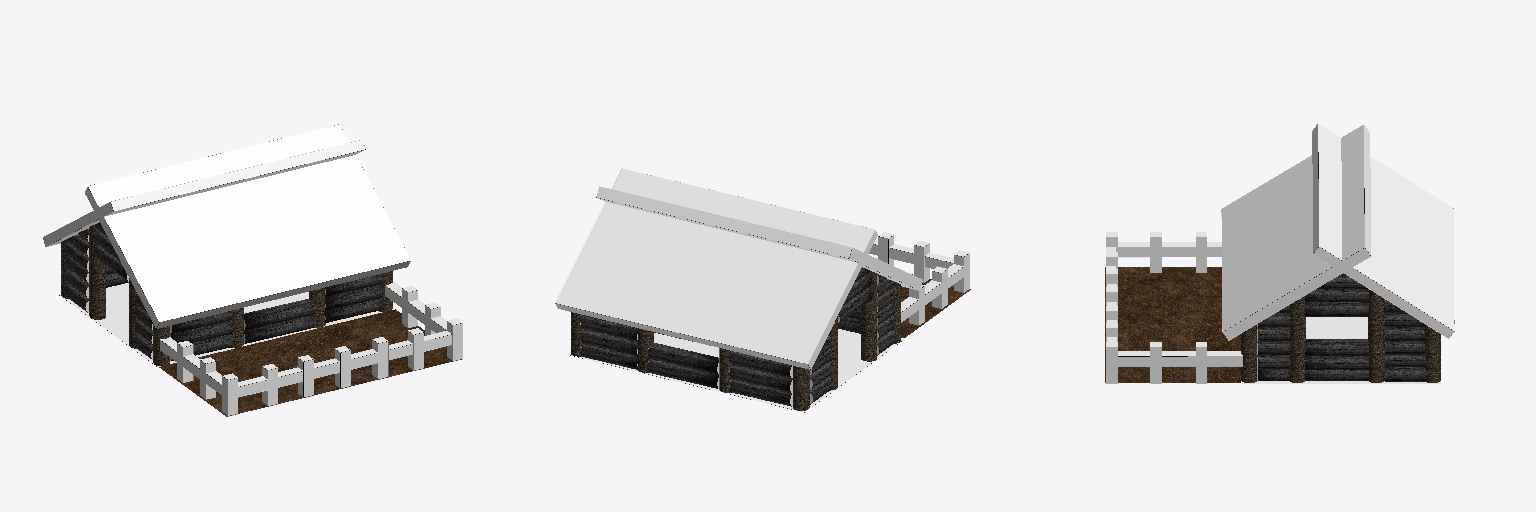
The picture shows the model from 3 angles: view 1: azimuth 30°, elevation 25°; view 2: azimuth 150°, elevation 25°; view 3: azimuth 270°, elevation 25°; orthographic projection.
Visible parts, largest first — view 1: Part368, Part251, Part427, Part295, Part112, Part370, Part371, Part425, Part349, Part343, Part424, Part113 (+9 smaller); view 2: Part428, Part369, Part295, Part423, Part371, Part290, Part358, Part251, Part424, Part131, Part192, Part185 (+7 smaller); view 3: Part368, Part428, Part251, Part295, Part372, Part426, Part267, Part364, Part487, Part103, Part369, Part427 (+7 smaller).
Part boxes in pixels (x1,y1,x2,y2): Part368: (88,124,410,321); Part251: (159,309,460,416); Part427: (111,140,364,210); Part295: (58,283,394,367); Part112: (238,335,451,397); Part370: (157,261,410,328); Part371: (85,187,158,327); Part425: (47,150,363,246); Part349: (245,303,315,329); Part343: (245,317,314,343); Part424: (43,202,113,246); Part113: (238,331,450,386); Part428: (555,168,874,363); Part369: (597,186,851,257); Part295: (567,329,903,411); Part423: (555,303,809,369); Part371: (849,248,922,290); Part290: (647,362,717,388); Part358: (648,348,717,373); Part251: (901,274,970,337); Part424: (808,230,877,368); Part131: (729,353,790,377); Part192: (729,368,790,392); Part185: (729,381,790,405); Part368: (1221,125,1364,331); Part428: (1318,123,1454,330); Part251: (1105,267,1240,382); Part295: (1241,317,1440,383); Part372: (1223,248,1370,340); Part426: (1314,247,1453,338); Part267: (1118,356,1242,366); Part364: (1292,297,1303,382); Part487: (1371,291,1381,382); Part103: (1118,247,1221,256); Part369: (1364,125,1370,254); Part427: (1312,124,1318,253).
Size of the model in its own units: 35.44 by 19.03 by 42.29.
Materials: 12 (3 with a texture image).